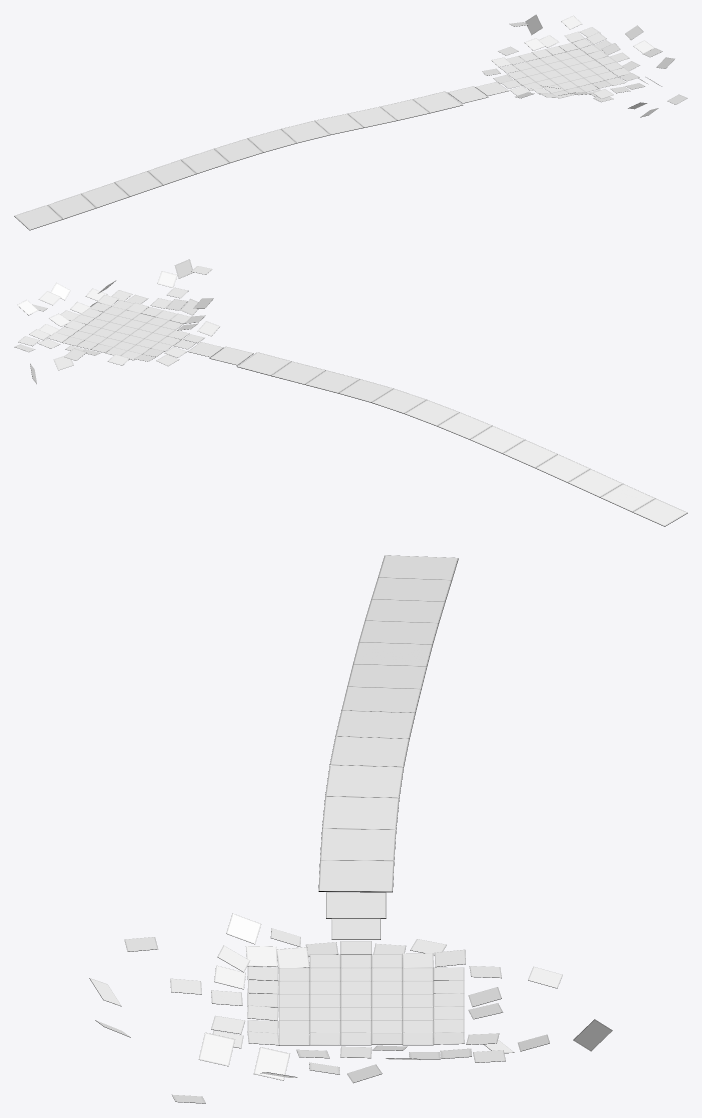
Rendered from tutorial_islandStart.fbx.
3 renders of one model, top to bottom at view 1: azimuth 30°, elevation 25°; view 2: azimuth 150°, elevation 25°; view 3: azimuth 270°, elevation 25°, orthographic. The views are drawn at different scales.
Parts seen in each view (by area): view 1: Tile_path.001, Start_island, Tile_path.006; view 2: Tile_path.001, Start_island, Tile_path.006; view 3: Tile_path.001, Start_island, Tile_path.006, Tile_path.005, Tile.051, Tile.032.
Part boxes in pixels (x1=…): Tile_path.001: x1=14, y1=91, x2=462, y2=230; Start_island: x1=513, y1=49, x2=617, y2=93; Tile_path.006: x1=447, y1=86, x2=488, y2=103; Tile_path.001: x1=237, y1=352, x2=687, y2=526; Start_island: x1=70, y1=306, x2=183, y2=353; Tile_path.006: x1=209, y1=346, x2=253, y2=365; Tile_path.001: x1=318, y1=555, x2=458, y2=892; Start_island: x1=279, y1=968, x2=433, y2=1033; Tile_path.006: x1=326, y1=892, x2=386, y2=918; Tile_path.005: x1=331, y1=918, x2=380, y2=939; Tile.051: x1=198, y1=1032, x2=234, y2=1066; Tile.032: x1=253, y1=1047, x2=289, y2=1080.
Size of the model in its own units: 46.09 by 4.04 by 16.93.
